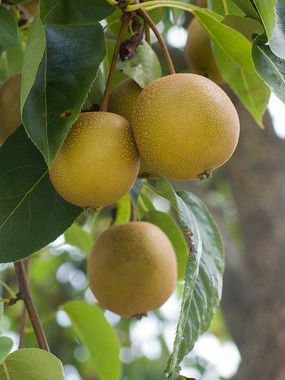pear: (133, 73, 238, 180), (48, 110, 141, 206), (88, 222, 177, 316)
